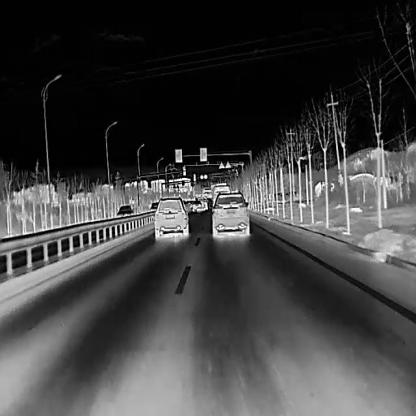car: (211, 190, 249, 238), (153, 195, 188, 239), (114, 202, 135, 228), (212, 184, 229, 208), (147, 202, 158, 218), (191, 200, 202, 211)
